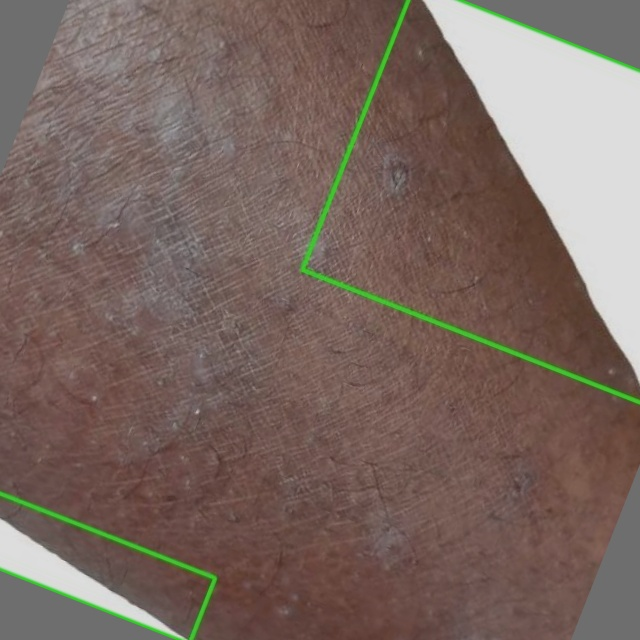Scabies: (300, 0, 639, 403), (0, 493, 215, 639)
